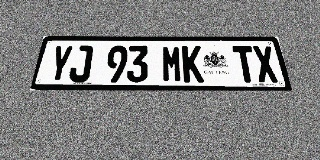3: (126, 46, 148, 82)
9: (105, 46, 128, 82)
J: (68, 46, 93, 82)
K: (182, 46, 204, 82)
M: (162, 46, 183, 82)
T: (232, 46, 258, 82)
X: (252, 46, 279, 82)
Y: (46, 45, 74, 82)
